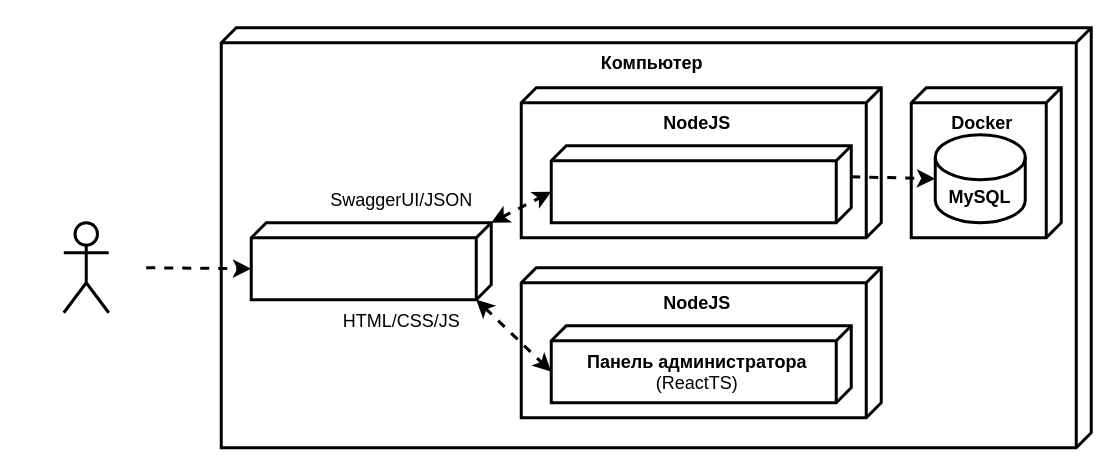
This 1118x474 diagram has some shape labels left out. The box of each missing label's shape, as (x1, y1, x2, y2) in pixels:
Браузер http://localhost/admin: (249, 220, 492, 300)
Программист: (62, 220, 110, 314)
Серверная часть (NestJS): (549, 144, 852, 224)
